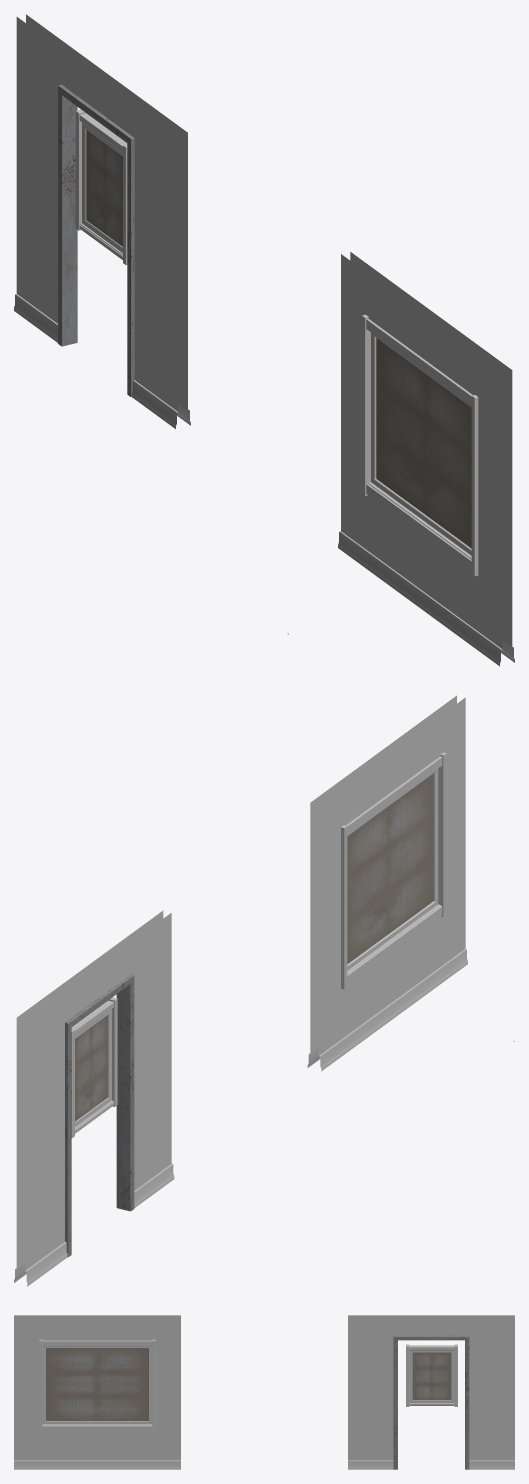
The model's file is UpdatedDoorAndWindows_door.fbx.
The picture shows the model from 3 angles, top to bottom: view 1: azimuth 30°, elevation 25°; view 2: azimuth 150°, elevation 25°; view 3: azimuth 270°, elevation 25°; orthographic projection. The views are drawn at different scales.
Parts seen in each view (by area): view 1: Wall_WithWindow, SingleDoorWall, SingleDoorFrame, SingleDoor_Window, SingleDoor_WindowFrame; view 2: Wall_WithWindow, SingleDoorWall, SingleDoorFrame, SingleDoor_Window, SingleDoor_WindowFrame; view 3: Wall_WithWindow, SingleDoorWall, SingleDoor_Window, SingleDoorFrame, SingleDoor_WindowFrame.
Part boxes in pixels (x1,y1,x2,y2): Wall_WithWindow: [338, 252, 514, 666]; SingleDoorWall: [14, 14, 190, 428]; SingleDoorFrame: [58, 84, 134, 396]; SingleDoor_Window: [86, 129, 122, 246]; SingleDoor_WindowFrame: [75, 109, 127, 265]; Wall_WithWindow: [307, 695, 467, 1071]; SingleDoorWall: [14, 910, 174, 1286]; SingleDoorFrame: [65, 974, 134, 1256]; SingleDoor_Window: [75, 1015, 107, 1121]; SingleDoor_WindowFrame: [71, 997, 117, 1137]; Wall_WithWindow: [14, 1315, 180, 1469]; SingleDoorWall: [348, 1315, 514, 1469]; SingleDoor_Window: [412, 1353, 451, 1399]; SingleDoorFrame: [393, 1335, 469, 1469]; SingleDoor_WindowFrame: [406, 1344, 457, 1406].
Bounding box in the file's own units: 158 × 300 × 900.
